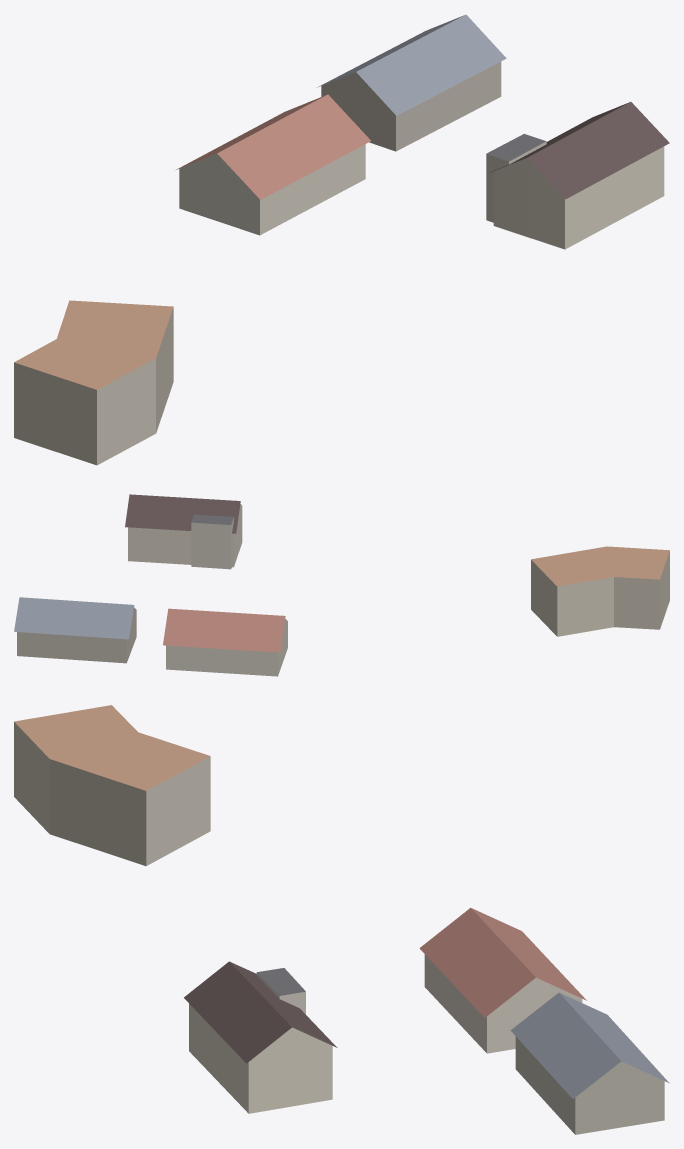
3 views of the same model, one above another, from view 1: azimuth 30°, elevation 25°; view 2: azimuth 150°, elevation 25°; view 3: azimuth 270°, elevation 25° (orthographic). The views are drawn at different scales.
Visible parts, largest first — view 1: tuile; view 2: tuile; view 3: tuile.
Part boxes in pixels (bbox=[...]): tuile: bbox=[14, 14, 669, 465]; tuile: bbox=[14, 494, 669, 676]; tuile: bbox=[14, 705, 669, 1134].
Bounding box in the file's own units: 72.45 × 10.34 × 57.04.
